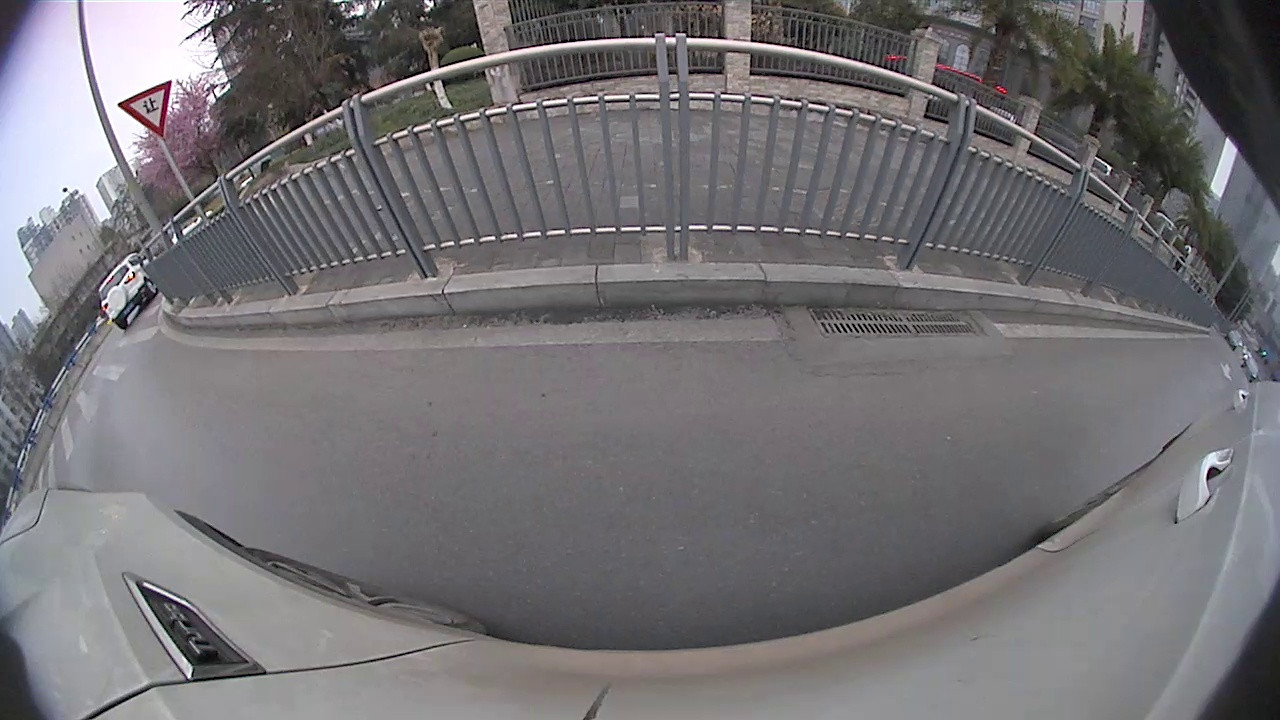car: (1116, 303, 1275, 514), (121, 177, 210, 266), (60, 217, 138, 299)
front: (1118, 340, 1156, 382), (146, 222, 168, 245)
rear: (1198, 465, 1235, 502), (194, 196, 210, 213)
